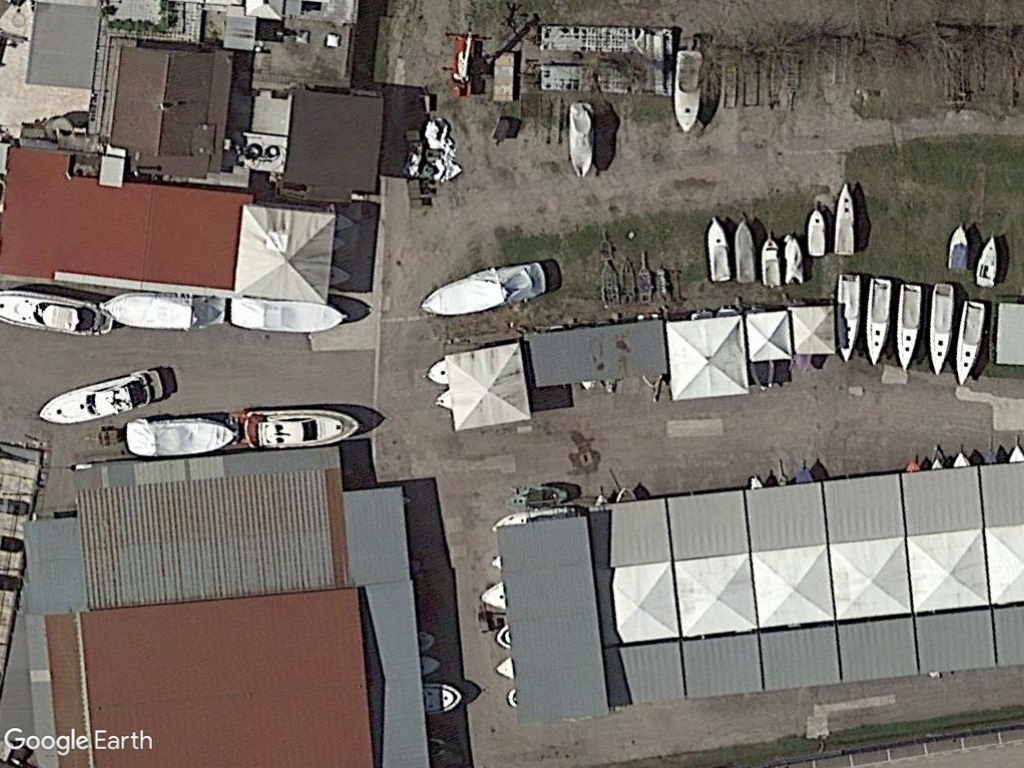boat: (28, 358, 174, 430), (411, 261, 549, 319), (121, 411, 241, 463), (95, 286, 228, 332), (235, 405, 365, 451), (951, 298, 987, 387), (893, 278, 926, 374), (832, 270, 864, 366), (925, 280, 955, 380), (864, 272, 894, 370), (565, 98, 598, 184), (699, 213, 735, 285), (830, 179, 858, 259), (972, 231, 1002, 291), (733, 216, 757, 287), (943, 221, 973, 277), (804, 203, 829, 259), (780, 232, 803, 288), (759, 234, 781, 292)
